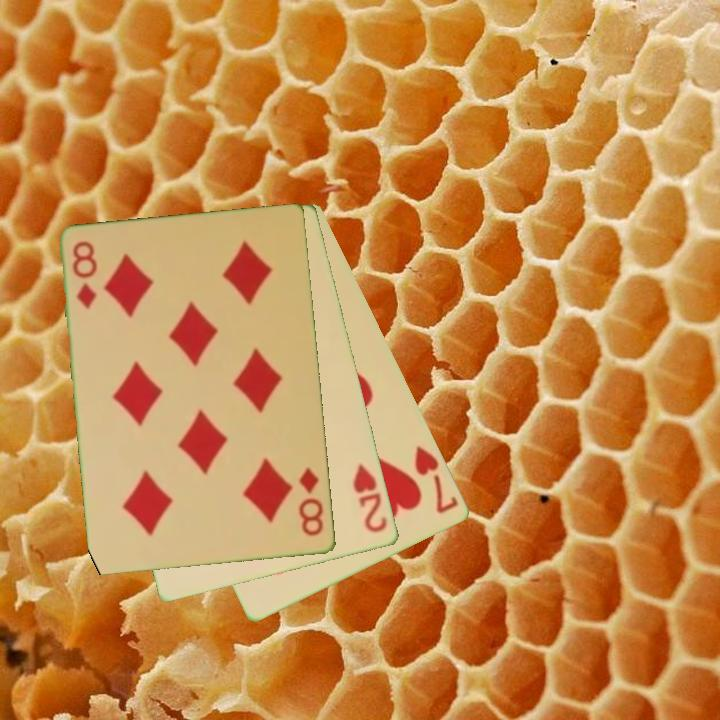2h: (349, 460, 391, 536)
7h: (411, 442, 462, 517)
8d: (295, 464, 327, 539), (69, 238, 100, 313)
